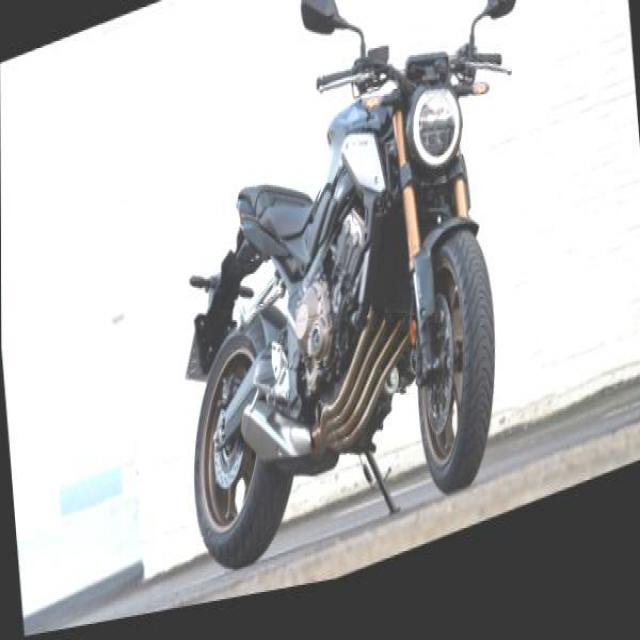CB650R: (162, 43, 509, 609)
